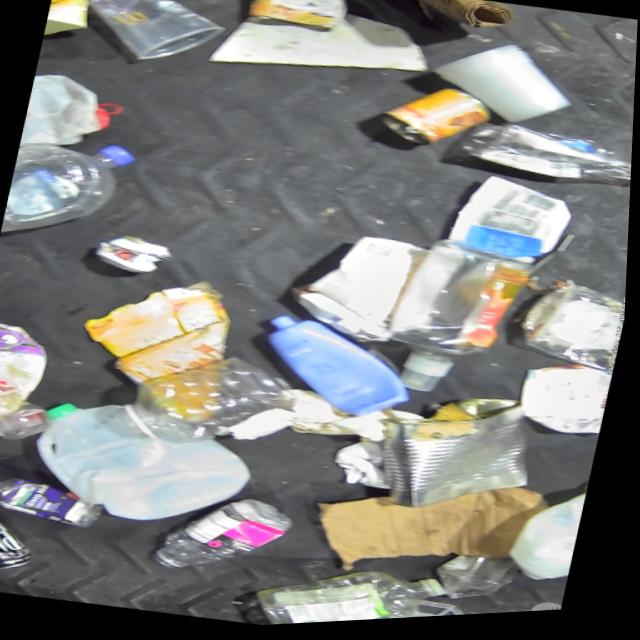can: (372, 381, 554, 537), (372, 77, 515, 169), (239, 0, 351, 53), (0, 498, 47, 586)
milk_jug: (20, 388, 260, 543), (0, 126, 141, 260), (17, 65, 129, 175), (495, 472, 594, 593)
non_white_jug: (263, 307, 431, 431)
plastic_bottle: (246, 545, 459, 629)
